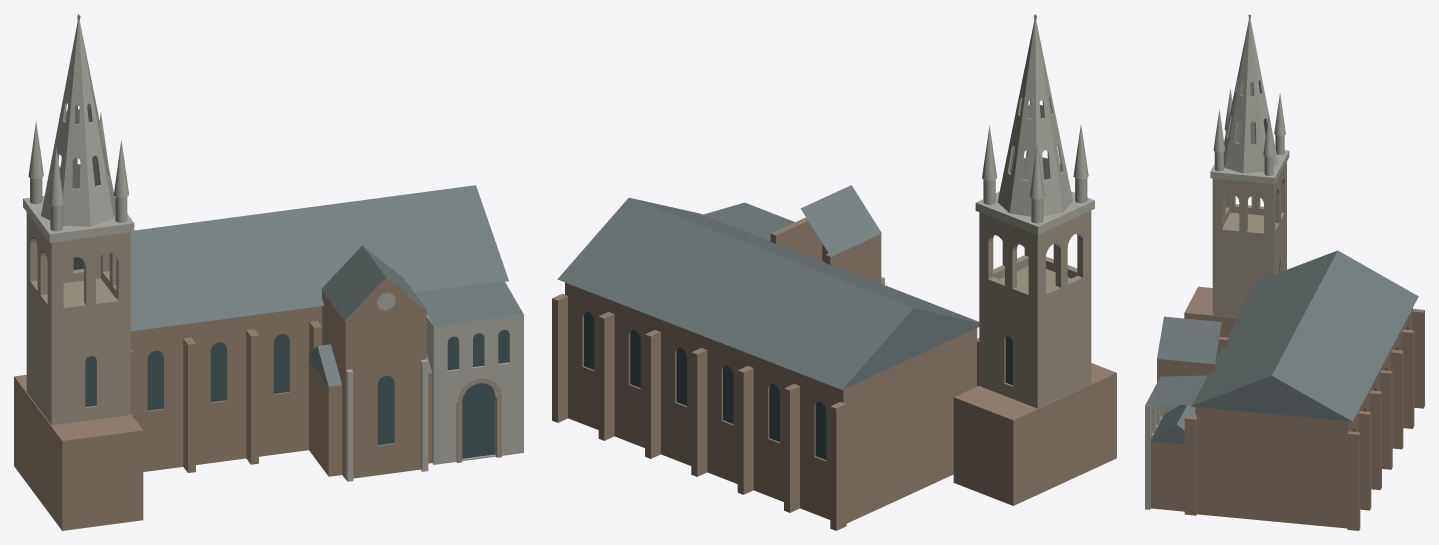
Rendered from collegiale-saint-andre-grenoble-far.glb.
3 renders of one model, left to right at view 1: azimuth 30°, elevation 25°; view 2: azimuth 150°, elevation 25°; view 3: azimuth 270°, elevation 25°, orthographic. The views are drawn at different scales.
Parts seen in each view (by area): view 1: collegiale-saint-andre-grenoble-0-brick, collegiale-saint-andre-grenoble-0-roof, collegiale-saint-andre-grenoble-0-trim, collegiale-saint-andre-grenoble-0-stone, collegiale-saint-andre-grenoble-0-glass; view 2: collegiale-saint-andre-grenoble-0-brick, collegiale-saint-andre-grenoble-0-roof, collegiale-saint-andre-grenoble-0-stone, collegiale-saint-andre-grenoble-0-trim, collegiale-saint-andre-grenoble-0-glass; view 3: collegiale-saint-andre-grenoble-0-brick, collegiale-saint-andre-grenoble-0-roof, collegiale-saint-andre-grenoble-0-stone, collegiale-saint-andre-grenoble-0-trim.
Part boxes in pixels (x1,y1,x2,y2): collegiale-saint-andre-grenoble-0-brick: (14,268,432,530); collegiale-saint-andre-grenoble-0-roof: (73,185,523,386); collegiale-saint-andre-grenoble-0-trim: (23,15,523,481); collegiale-saint-andre-grenoble-0-stone: (26,212,501,462); collegiale-saint-andre-grenoble-0-glass: (85,330,509,458); collegiale-saint-andre-grenoble-0-brick: (552,217,1116,530); collegiale-saint-andre-grenoble-0-roof: (557,185,979,389); collegiale-saint-andre-grenoble-0-stone: (979,210,1091,408); collegiale-saint-andre-grenoble-0-trim: (770,15,1094,284); collegiale-saint-andre-grenoble-0-glass: (584,311,1012,459); collegiale-saint-andre-grenoble-0-brick: (1150,286,1424,530); collegiale-saint-andre-grenoble-0-roof: (1145,250,1418,444); collegiale-saint-andre-grenoble-0-stone: (1212,162,1286,317); collegiale-saint-andre-grenoble-0-trim: (1145,15,1289,509).
Size of the model in its own units: 59.33 by 56 by 39.64.
